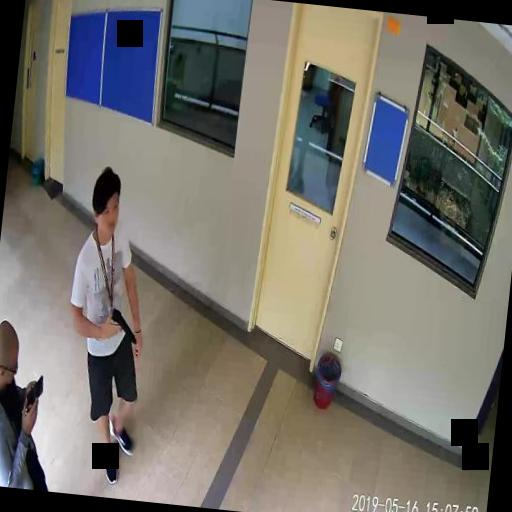Handgun: (106, 307, 138, 344)
